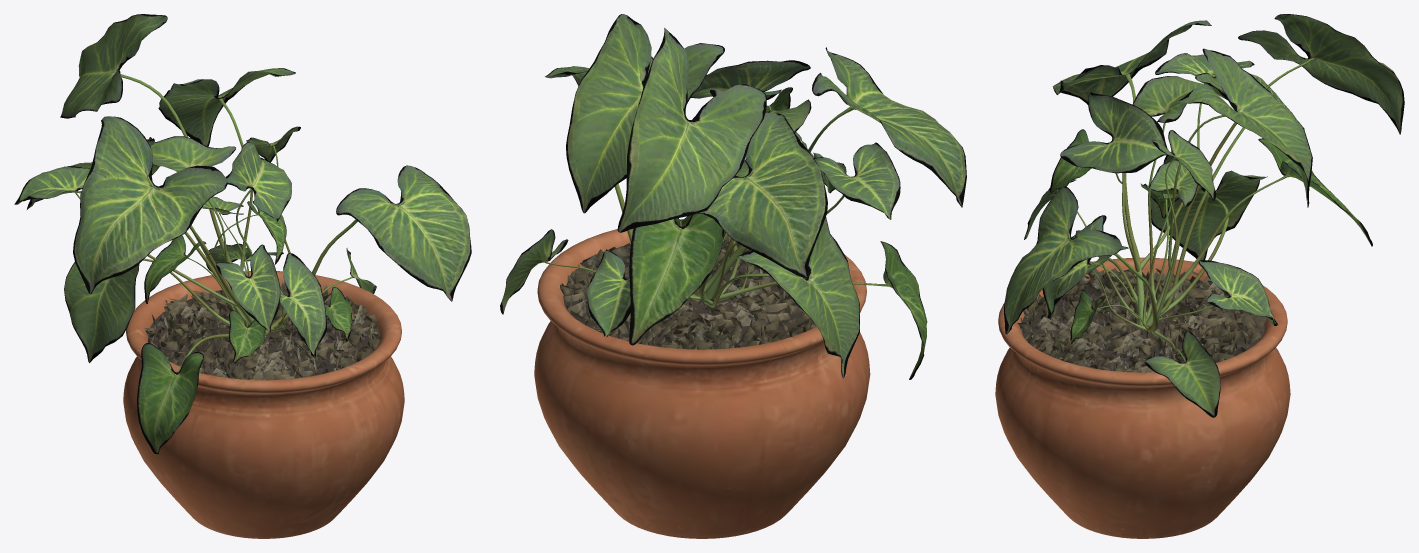
The model's file is potted_plant.glb.
The picture shows the model from 3 angles, left to right: view 1: azimuth 30°, elevation 25°; view 2: azimuth 150°, elevation 25°; view 3: azimuth 270°, elevation 25°; orthographic projection. The views are drawn at different scales.
Visible parts, largest first — view 1: potted_plant_02_leaves, potted_plant_02_pot, potted_plant_02_dirt; view 2: potted_plant_02_leaves, potted_plant_02_pot, potted_plant_02_dirt; view 3: potted_plant_02_leaves, potted_plant_02_pot, potted_plant_02_dirt.
Boxes of the visible parts, left/top/right/bottom form: potted_plant_02_leaves: left=14, top=14, right=471, bottom=454; potted_plant_02_pot: left=123, top=271, right=404, bottom=538; potted_plant_02_dirt: left=144, top=282, right=383, bottom=380; potted_plant_02_leaves: left=500, top=14, right=966, bottom=379; potted_plant_02_pot: left=534, top=219, right=870, bottom=538; potted_plant_02_dirt: left=560, top=235, right=816, bottom=349; potted_plant_02_leaves: left=1004, top=14, right=1404, bottom=417; potted_plant_02_pot: left=995, top=257, right=1290, bottom=538; potted_plant_02_dirt: left=1017, top=268, right=1266, bottom=372.
Size of the model in its own units: 0.7012 by 0.8412 by 0.6574.
Materials: 2 (2 with a texture image).
